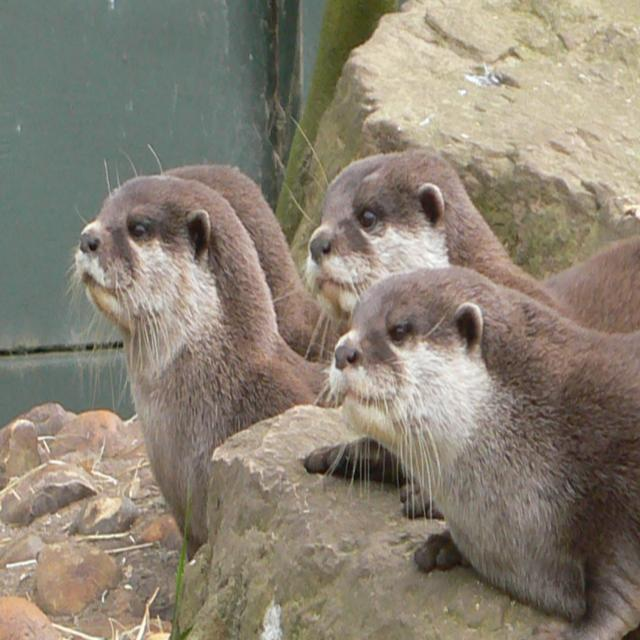otter: (332, 269, 640, 640), (308, 147, 640, 474), (80, 176, 350, 562)
